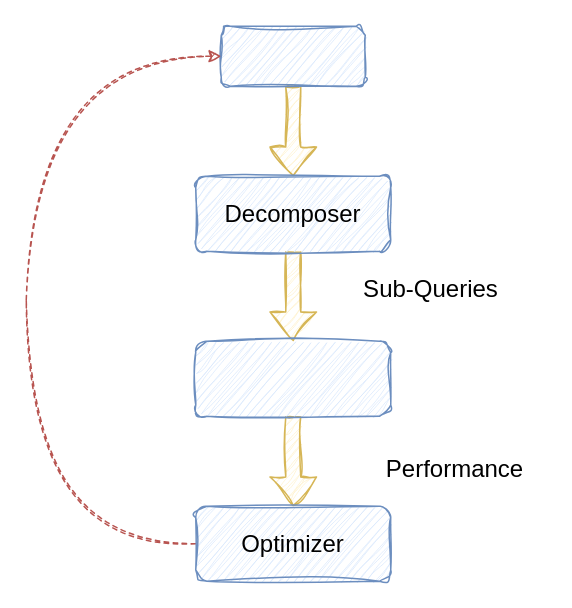
Image size: 572x608. Some labels were removed from this diagram. The shapes that lost their labels are listed below. From the top down, each one's box as (x1, y1, x2, y2) in pixels, then its label:
(220, 25, 365, 86): Prompt
(194, 340, 391, 416): MVR
